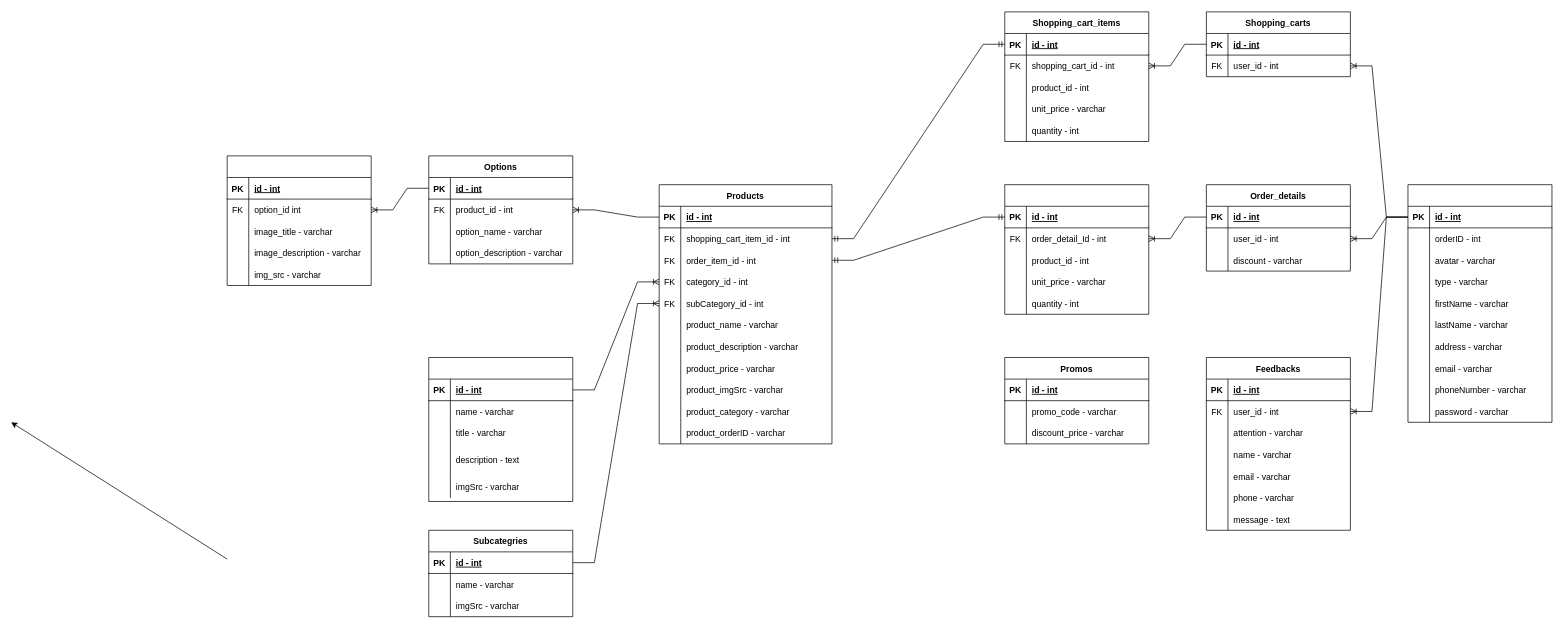
The diagram is 1564 pixels wide and 629 high, and some of its shapes have lost their labels. Each missing label, with the box of its shape:
Categories: (428, 357, 573, 501)
Images: (226, 155, 371, 285)
Order_items: (1004, 184, 1149, 314)
Users: (1407, 184, 1552, 422)
